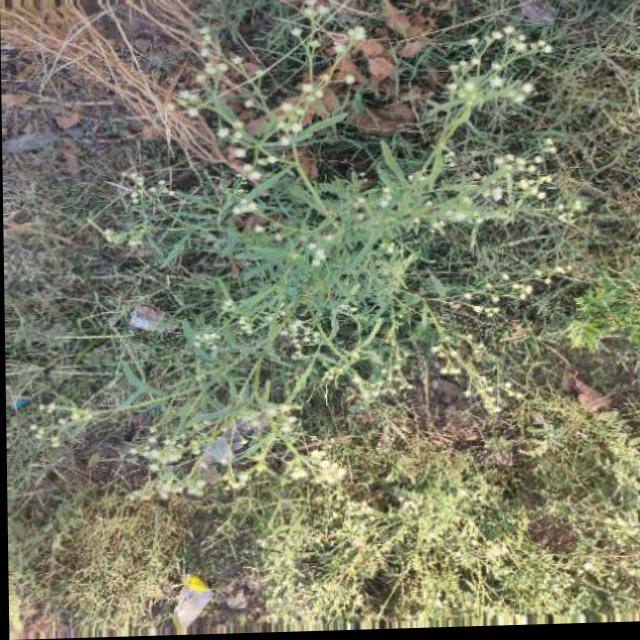weed: (136, 69, 537, 537)
